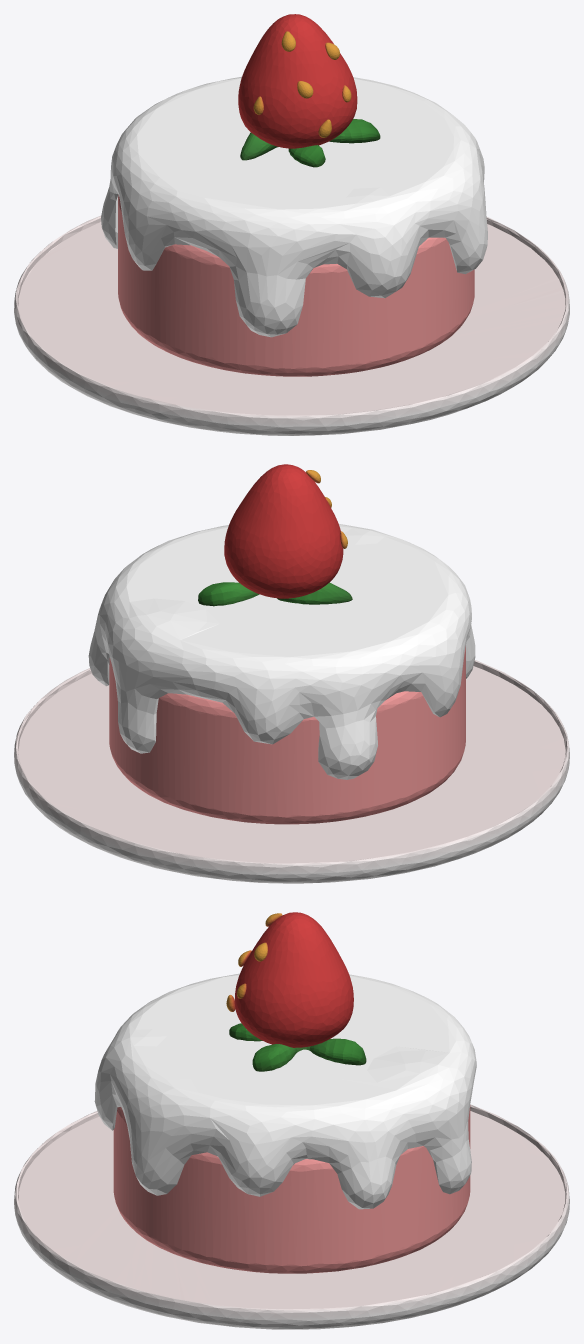
File: Cake.obj
3 views of the same model, one above another, from view 1: azimuth 30°, elevation 25°; view 2: azimuth 150°, elevation 25°; view 3: azimuth 270°, elevation 25° (orthographic).
Parts seen in each view (by area): view 1: model_5, model_0, model_1, model_2, model_4, model_3; view 2: model_5, model_0, model_1, model_2, model_4; view 3: model_5, model_0, model_1, model_2, model_4, model_3.
Boxes of the visible parts, bbox=[...] form: model_5: bbox=[101, 76, 487, 337]; model_0: bbox=[14, 215, 569, 435]; model_1: bbox=[118, 195, 474, 376]; model_2: bbox=[238, 14, 357, 148]; model_4: bbox=[240, 119, 380, 167]; model_3: bbox=[253, 31, 351, 137]; model_5: bbox=[88, 524, 475, 779]; model_0: bbox=[14, 660, 569, 883]; model_1: bbox=[109, 646, 465, 824]; model_2: bbox=[224, 464, 343, 598]; model_4: bbox=[198, 582, 352, 606]; model_5: bbox=[94, 973, 476, 1209]; model_0: bbox=[14, 1104, 569, 1329]; model_1: bbox=[113, 1105, 470, 1273]; model_2: bbox=[234, 912, 353, 1047]; model_4: bbox=[229, 1023, 366, 1071]; model_3: bbox=[226, 913, 282, 1011].
Bounding box in the file's own units: 139 × 84.3 × 139.
6 materials, 6 textured.
